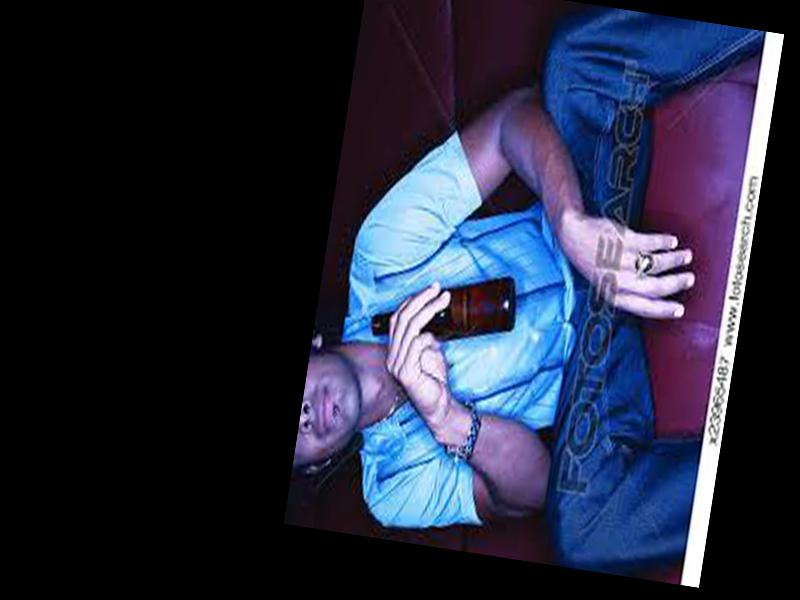Beer: (368, 255, 520, 357)
